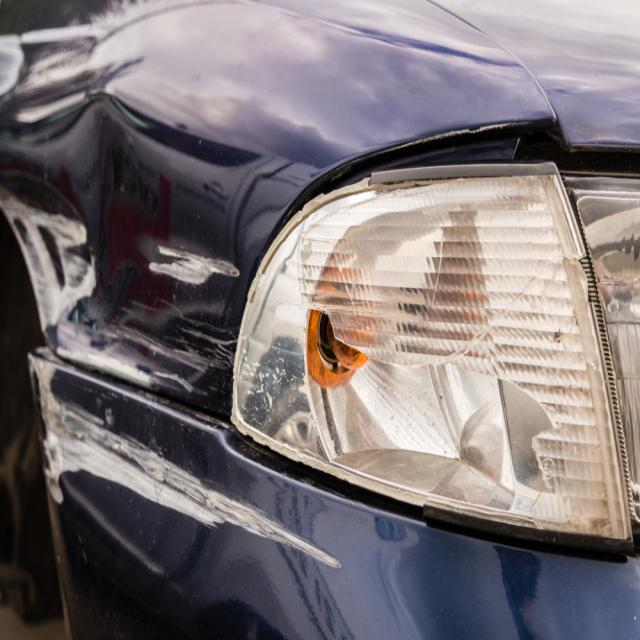Cabossage: (44, 86, 154, 314)
Phare abime: (239, 237, 565, 494)
Rayure: (32, 362, 346, 581), (5, 188, 234, 415)
